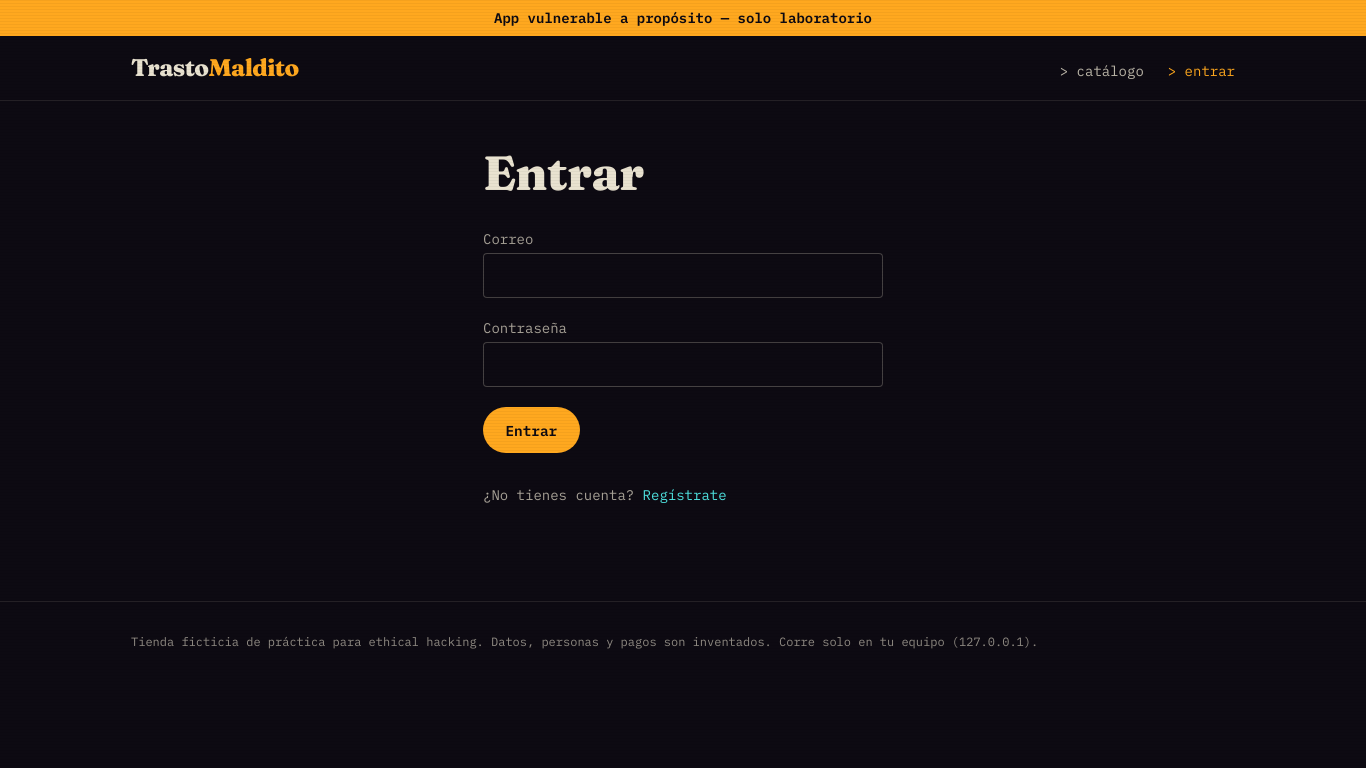
Test: sesión (F1) › entrar con credenciales malas muestra el mensaje de la API en un alert y no guarda sesión
This screenshot has width=1366, height=768.
Step 1. Type "ana@lab.test" into the field labelled "Correo" → (683, 276), box [483,253,883,298]
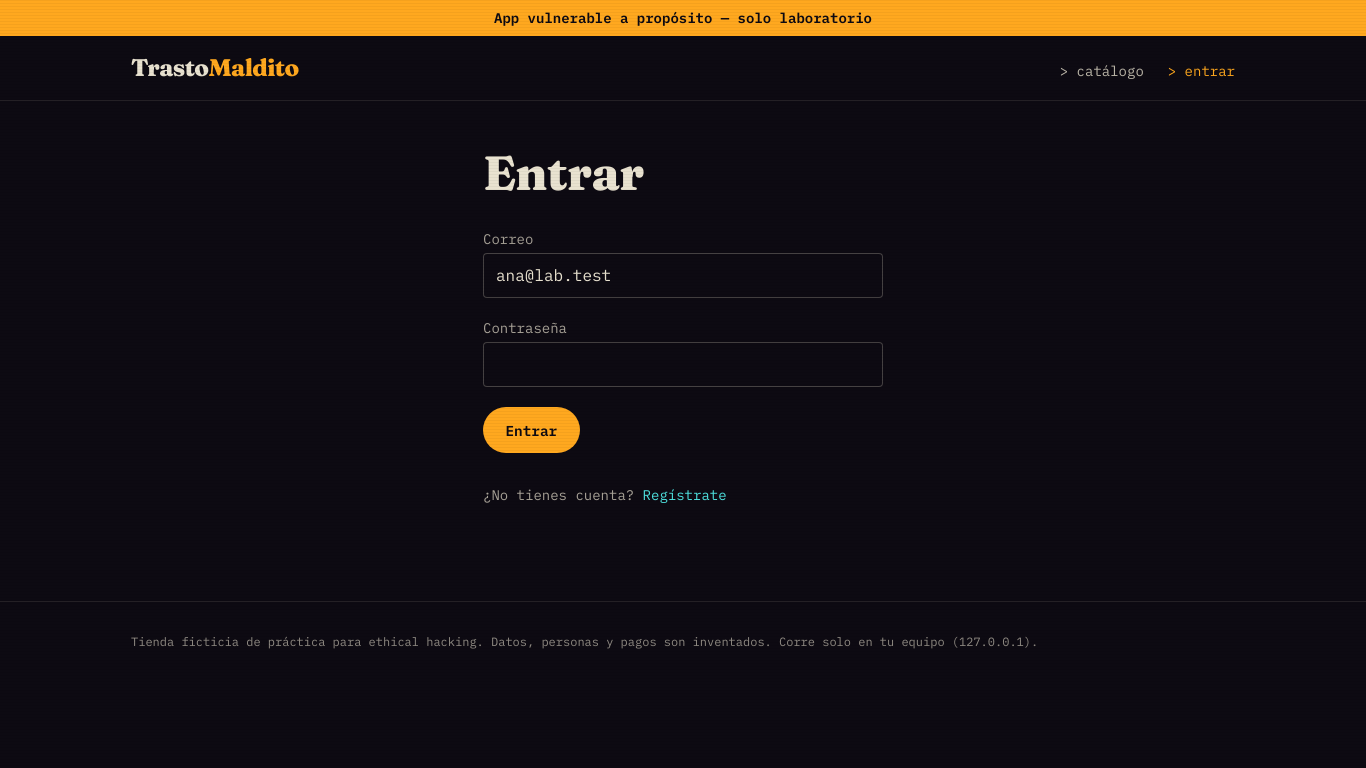
Step 2. Type "mala" into the password field labelled "Contraseña" → (683, 365), box [483,342,883,387]
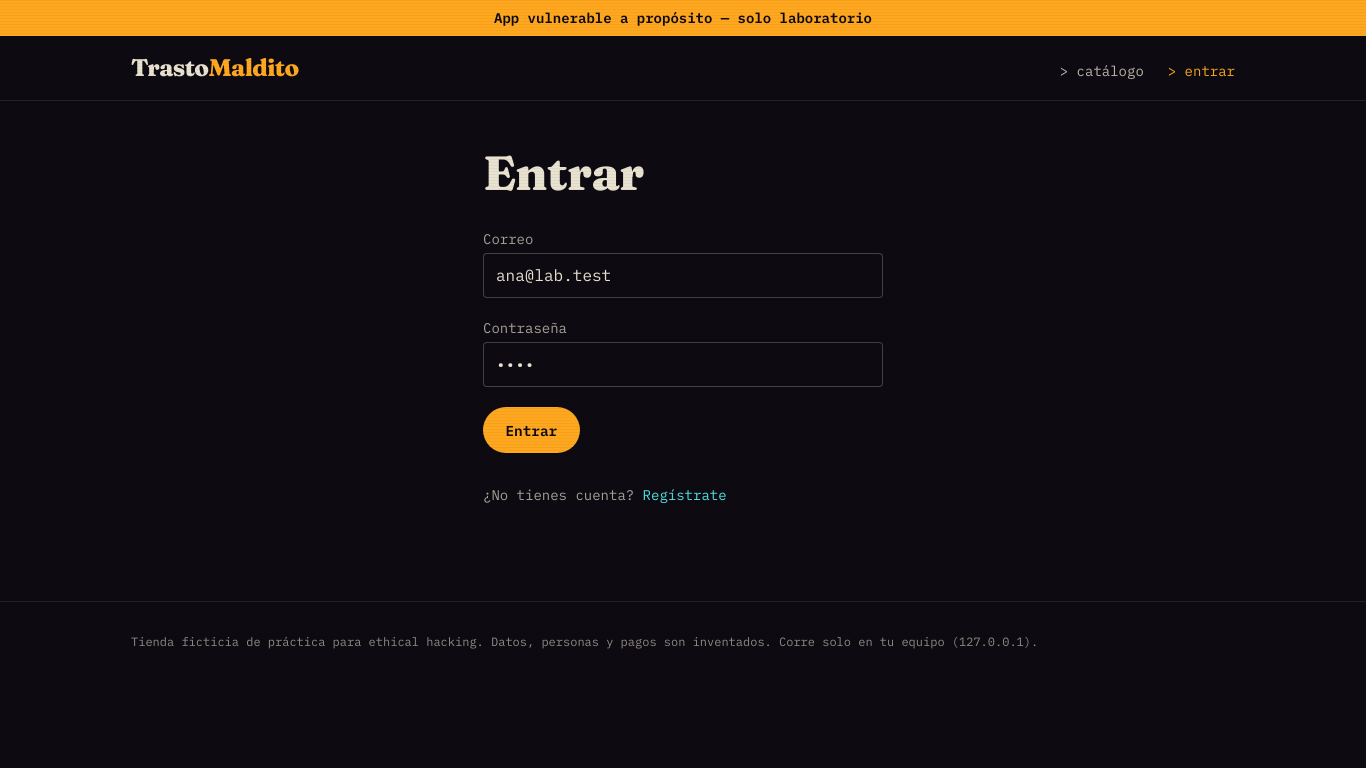
Step 3. Click the button "Entrar" → (531, 430), box [483,407,580,453]
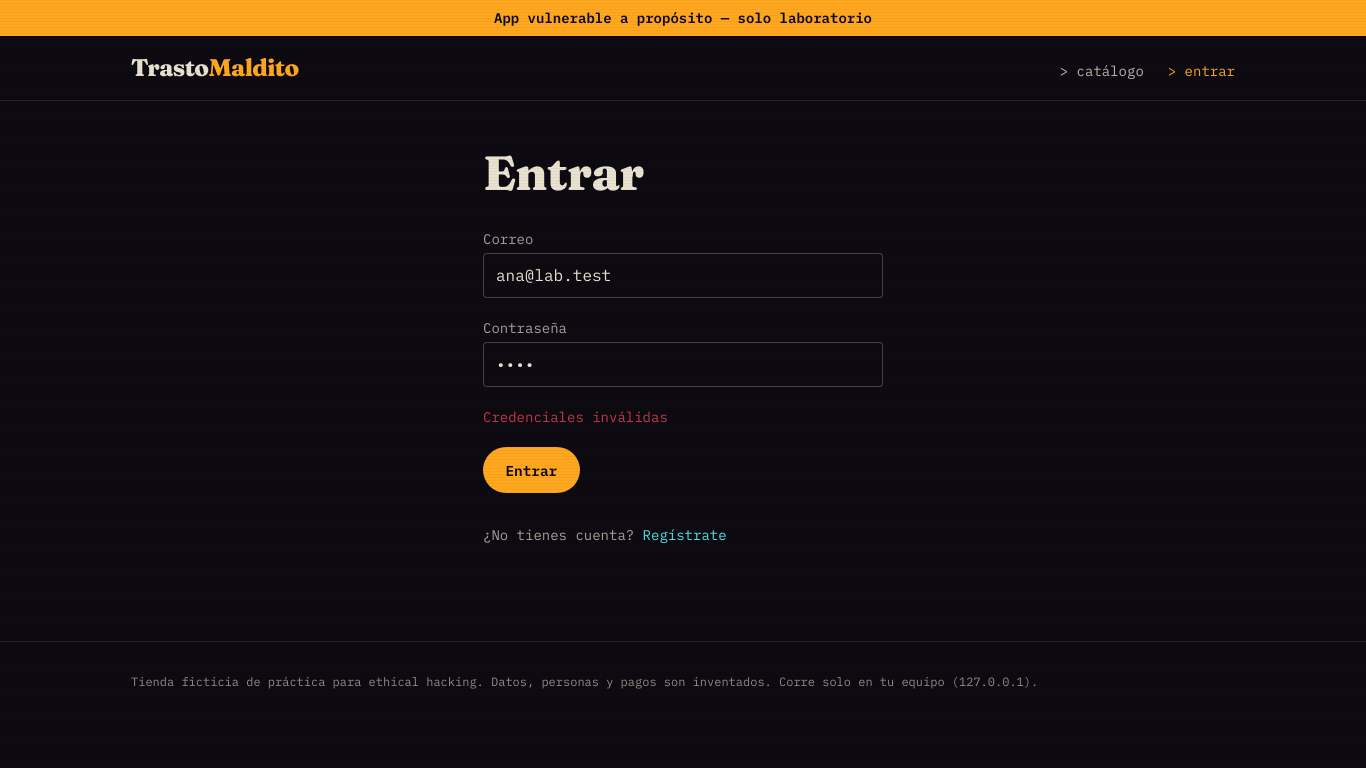
Now the message reads "Credenciales inválidas", box [483,408,668,426]
